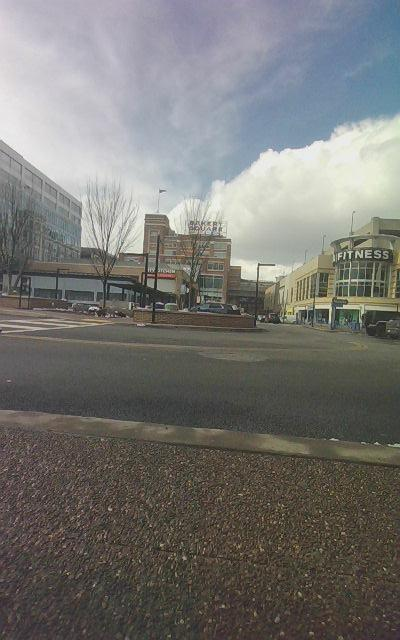curb: (0, 411, 399, 639)
road: (0, 311, 399, 444)
